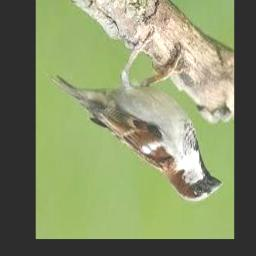Sparrow: (48, 29, 222, 202)
